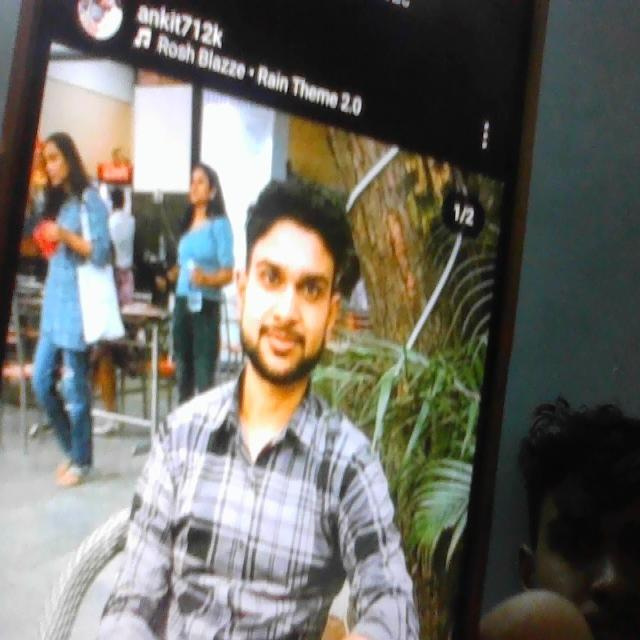fake: (239, 182, 347, 386)
